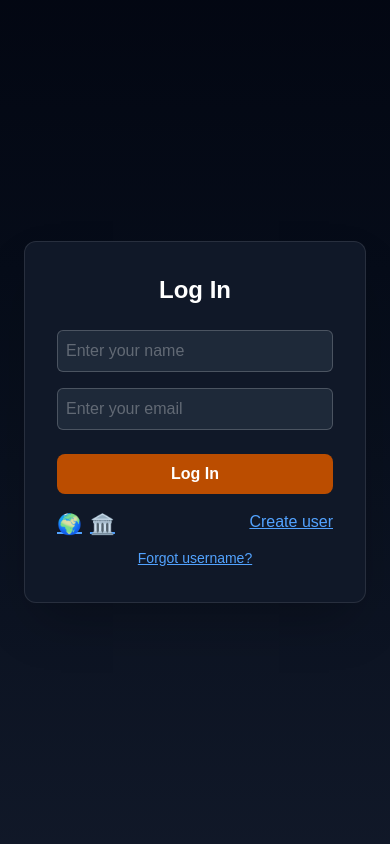
Test: LoginPage › shows "Please enter your email." when the email is empty
Type "Alice" into the field with placeholder "Enter your name" at [195, 351], box [57,330,333,372]
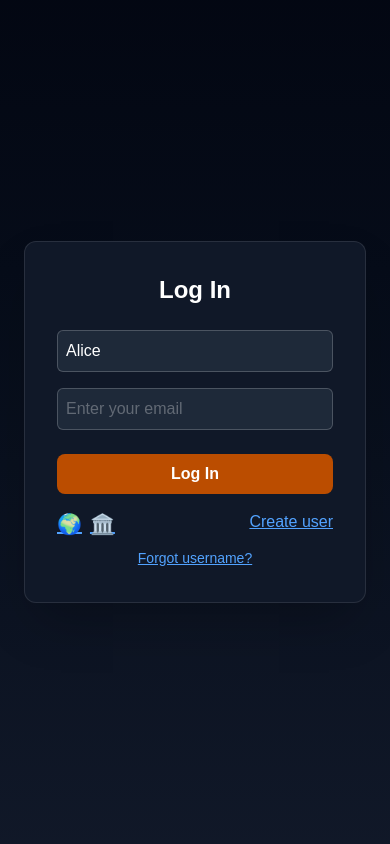
Click the button "Log In" at [195, 474], box [57,454,333,494]
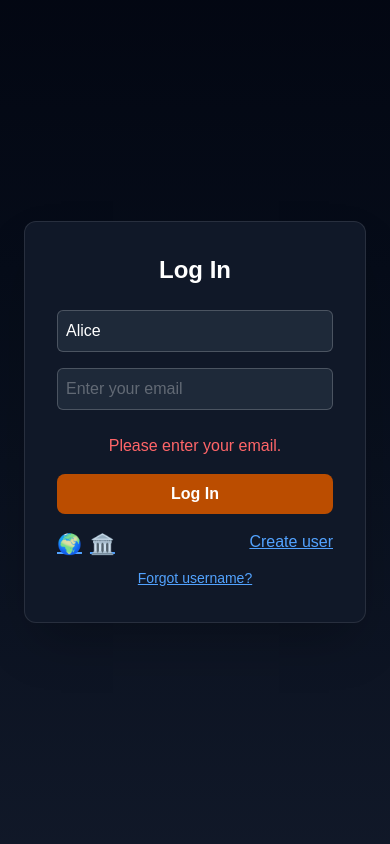
Check: the text "Please enter your email." is shown, box [109,437,281,454]
